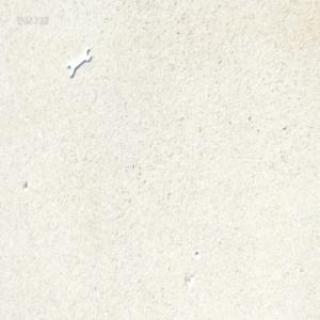Wrenchtrack_idkeyframe: (66, 42, 91, 75)
